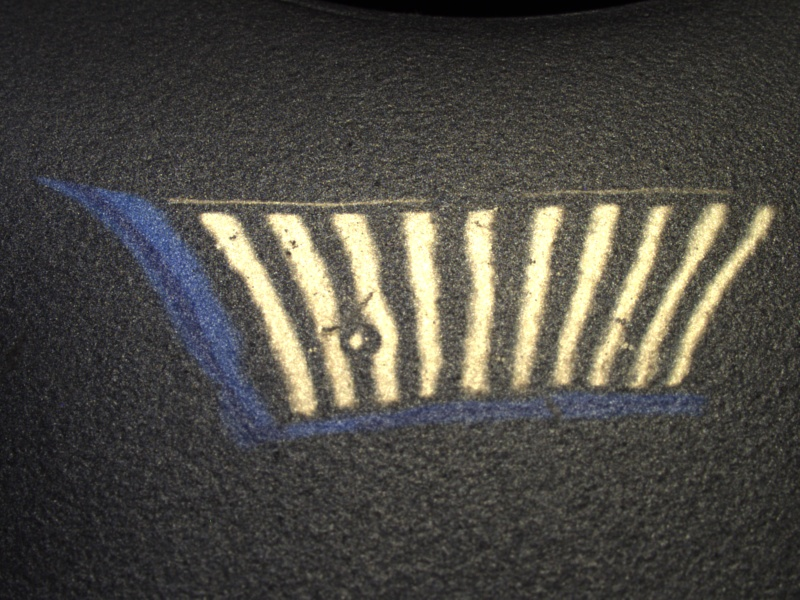bad: (342, 315, 407, 363)
